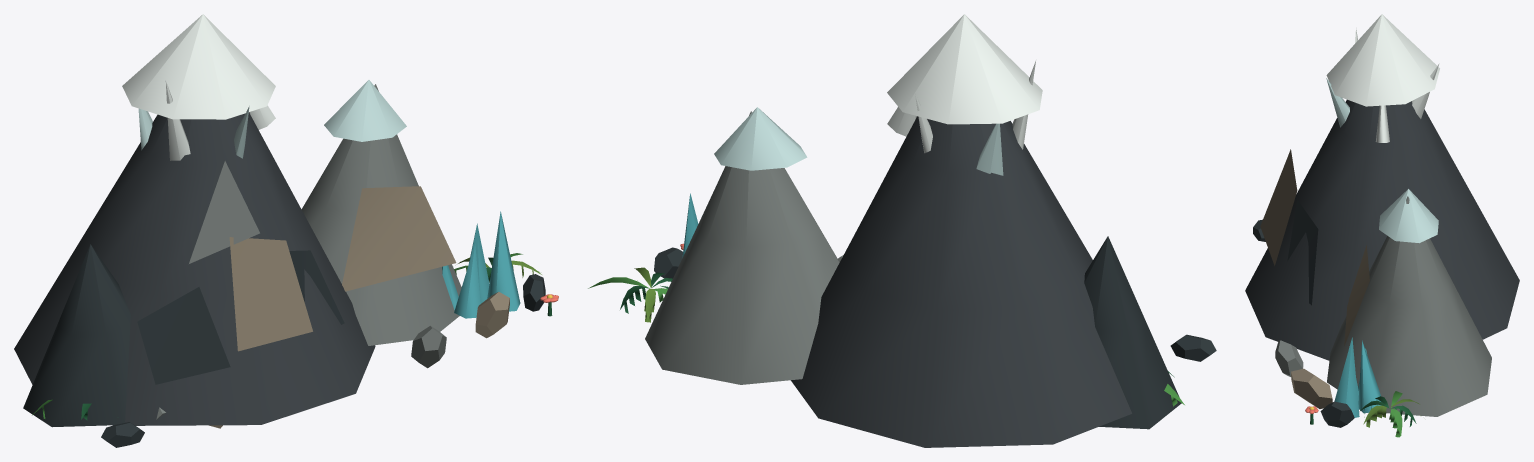
The model's file is terrain-mountain.glb.
3 views of the same model, side by side, from view 1: azimuth 30°, elevation 25°; view 2: azimuth 150°, elevation 25°; view 3: azimuth 270°, elevation 25° (orthographic). The views are drawn at different scales.
Parts seen in each view (by area): view 1: MountainDecor_VolcanicRock_0, MountainDecor_RockStrataDark_1, MountainDecor_WeatheredRock_3, MountainDecor_RockStrataWarm_2, MountainDecor_MountainSnow_4, MountainDecor_MountainSnowShade_5, MountainDecor_MountainCrystal_6; view 2: MountainDecor_VolcanicRock_0, MountainDecor_WeatheredRock_3, MountainDecor_MountainSnow_4, MountainDecor_RockStrataDark_1, MountainDecor_MountainSnowShade_5; view 3: MountainDecor_VolcanicRock_0, MountainDecor_WeatheredRock_3, MountainDecor_MountainSnow_4, MountainDecor_RockStrataWarm_2, MountainDecor_MountainSnowShade_5, MountainDecor_RockStrataDark_1, MountainDecor_MountainCrystal_6, MountainDecor_IslandGrassDark_7, MountainDecor_IslandGrass_9, MountainDecor_ForestMoss_8.
Boxes of the visible parts, bbox=[...] form: MountainDecor_VolcanicRock_0: bbox=[14, 112, 375, 425]; MountainDecor_RockStrataDark_1: bbox=[23, 244, 545, 447]; MountainDecor_WeatheredRock_3: bbox=[156, 84, 461, 419]; MountainDecor_RockStrataWarm_2: bbox=[209, 186, 509, 428]; MountainDecor_MountainSnow_4: bbox=[122, 14, 275, 160]; MountainDecor_MountainSnowShade_5: bbox=[138, 80, 406, 158]; MountainDecor_MountainCrystal_6: bbox=[442, 211, 520, 318]; MountainDecor_VolcanicRock_0: bbox=[791, 116, 1131, 447]; MountainDecor_WeatheredRock_3: bbox=[645, 111, 843, 384]; MountainDecor_MountainSnow_4: bbox=[887, 14, 1042, 153]; MountainDecor_RockStrataDark_1: bbox=[654, 236, 1216, 429]; MountainDecor_MountainSnowShade_5: bbox=[714, 107, 1003, 175]; MountainDecor_VolcanicRock_0: bbox=[1245, 99, 1519, 360]; MountainDecor_WeatheredRock_3: bbox=[1275, 196, 1491, 416]; MountainDecor_MountainSnow_4: bbox=[1326, 14, 1439, 142]; MountainDecor_RockStrataWarm_2: bbox=[1260, 149, 1369, 408]; MountainDecor_MountainSnowShade_5: bbox=[1326, 78, 1438, 243]; MountainDecor_RockStrataDark_1: bbox=[1253, 200, 1354, 427]; MountainDecor_MountainCrystal_6: bbox=[1334, 337, 1381, 417]; MountainDecor_IslandGrassDark_7: bbox=[1310, 396, 1416, 426]; MountainDecor_IslandGrass_9: bbox=[1389, 391, 1402, 437]; MountainDecor_ForestMoss_8: bbox=[1363, 399, 1419, 427].
Bounding box in the file's own units: 1.61 × 1.02 × 0.8516.
